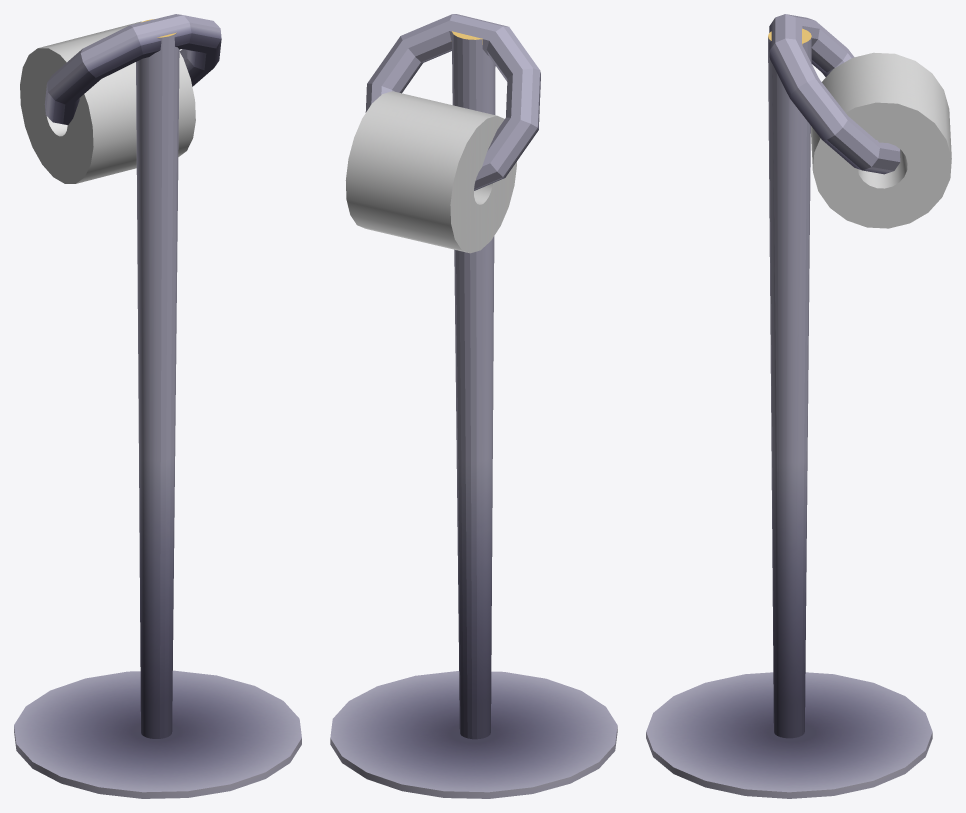
File: tp_holder 1.fbx
3 views of the same model, side by side, from view 1: azimuth 30°, elevation 25°; view 2: azimuth 150°, elevation 25°; view 3: azimuth 270°, elevation 25° (orthographic).
Visible parts, largest first — view 1: pCylinder7, pPipe2; view 2: pCylinder7, pPipe2; view 3: pCylinder7, pPipe2.
Part boxes in pixels (box(x1,y1,x2,y2)): pCylinder7: box(14, 14, 301, 798); pPipe2: box(20, 21, 195, 183); pCylinder7: box(330, 14, 617, 798); pPipe2: box(345, 91, 516, 253); pCylinder7: box(646, 14, 932, 798); pPipe2: box(811, 52, 951, 228).
Size of the model in its own units: 5.16 by 14.18 by 5.5.
Materials: 1 (1 with a texture image).
